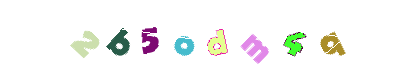2: (79, 0, 159, 80)
4: (254, 0, 334, 80)
5: (138, 0, 218, 80)
B: (115, 0, 195, 80)
D: (165, 0, 245, 80)
M: (206, 0, 286, 80)
O: (141, 0, 221, 80)
Q: (291, 0, 371, 80)
